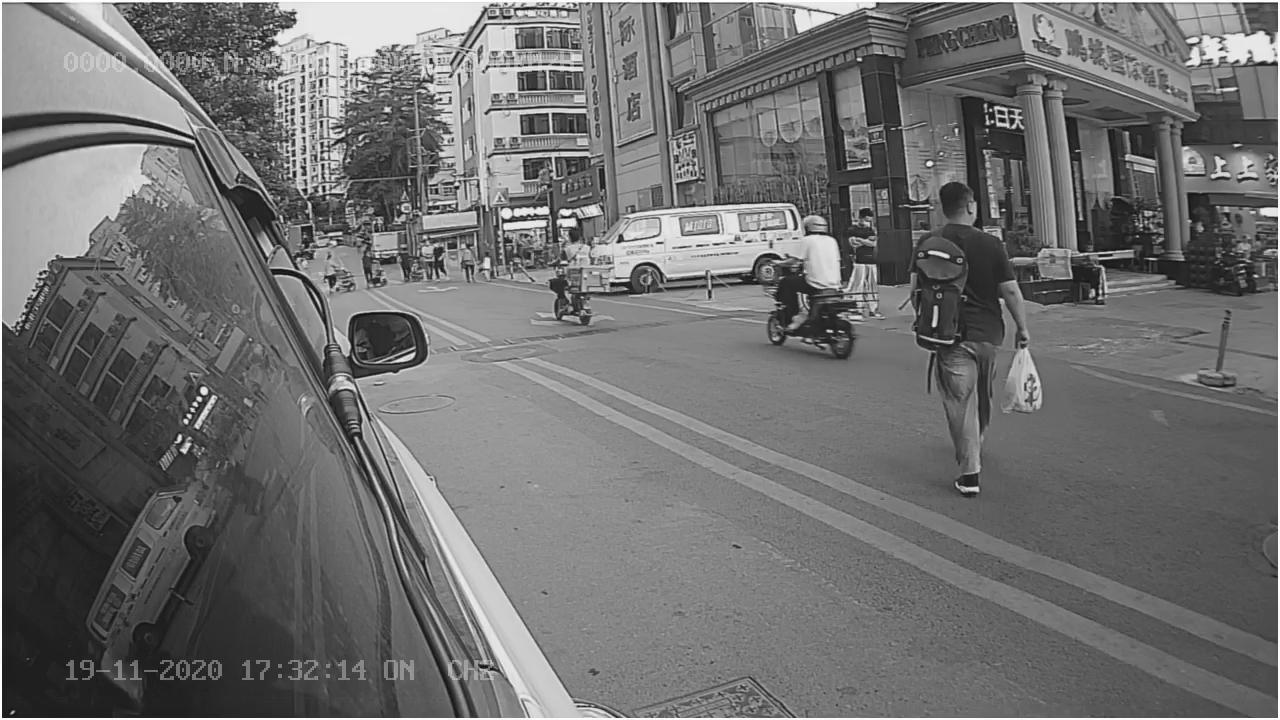person: (907, 179, 1030, 495)
